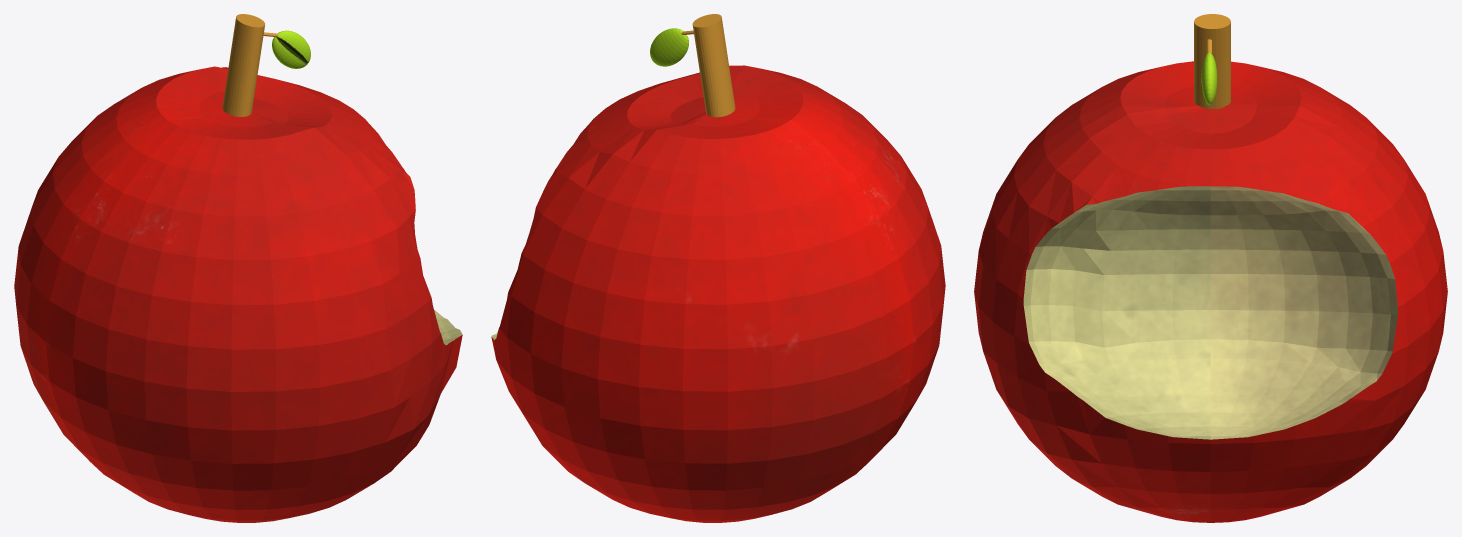
Rendered from anple.obj.
The picture shows the model from 3 angles, left to right: view 1: azimuth 30°, elevation 25°; view 2: azimuth 150°, elevation 25°; view 3: azimuth 270°, elevation 25°; orthographic projection.
Visible parts, largest first — view 1: 球; view 2: 球; view 3: 球.
Boxes of the visible parts, left/top/right/bottom form: 球: left=14, top=14, right=462, bottom=522; 球: left=491, top=14, right=945, bottom=522; 球: left=974, top=14, right=1447, bottom=522.
Bounding box in the file's own units: 0.6218 × 0.7208 × 0.6592.
Materials: 1 (1 with a texture image).
